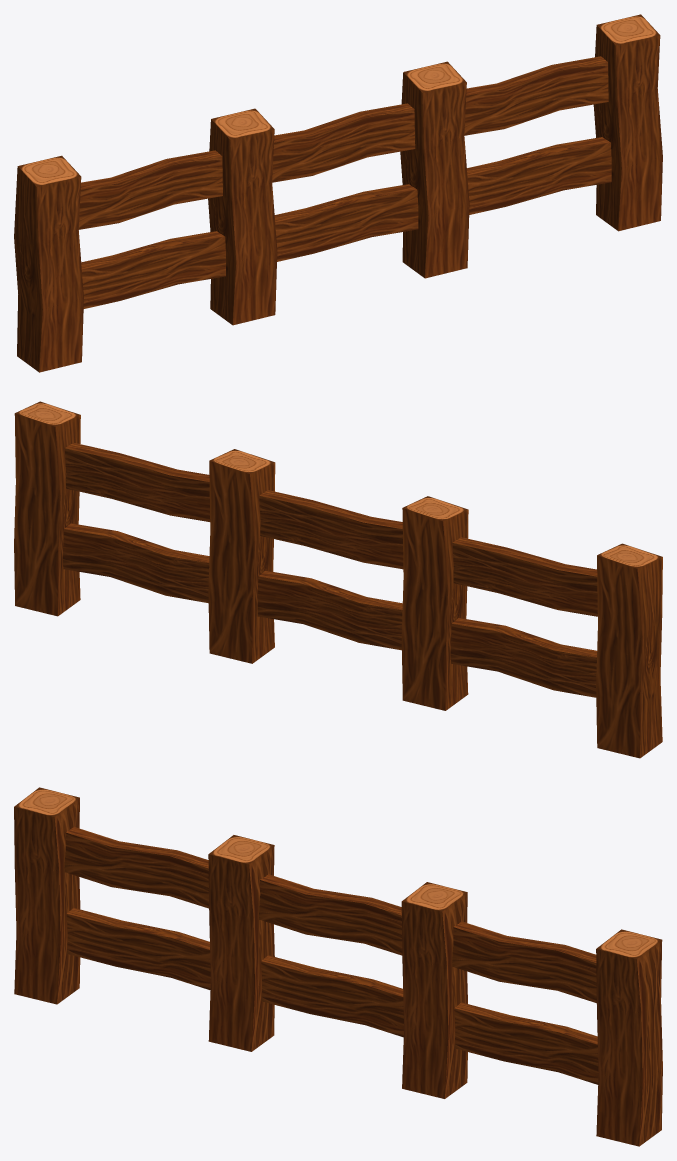
Rendered from fence.fbx.
3 renders of one model, top to bottom at view 1: azimuth 30°, elevation 25°; view 2: azimuth 150°, elevation 25°; view 3: azimuth 330°, elevation 25°, orthographic.
Parts seen in each view (by area): view 1: fence; view 2: fence; view 3: fence.
Boxes of the visible parts, box(x1,y1,x2,y2) form: fence: box(14, 14, 662, 372); fence: box(14, 401, 662, 758); fence: box(14, 787, 662, 1146).
Bounding box in the file's own units: 190 × 55.24 × 13.49.
Materials: 2 (2 with a texture image).
